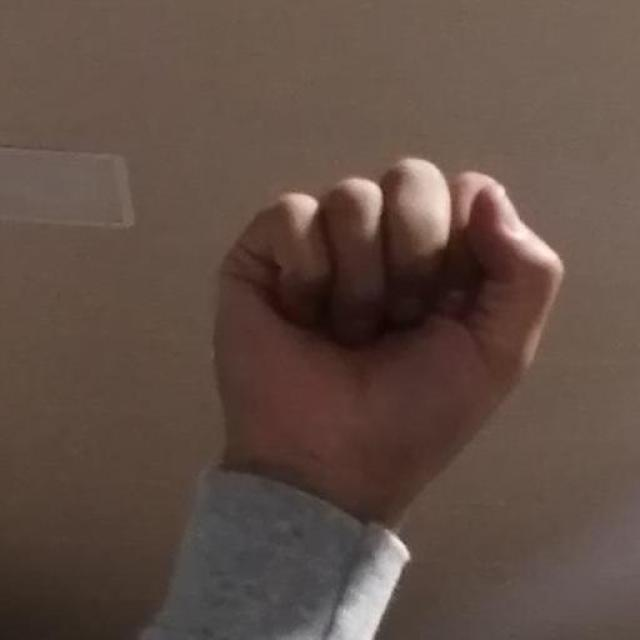hand: (210, 155, 565, 529)
